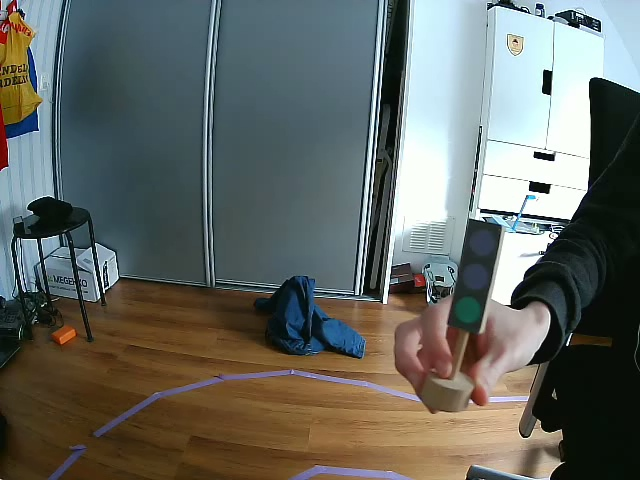groenlicht: (446, 225, 503, 328)
